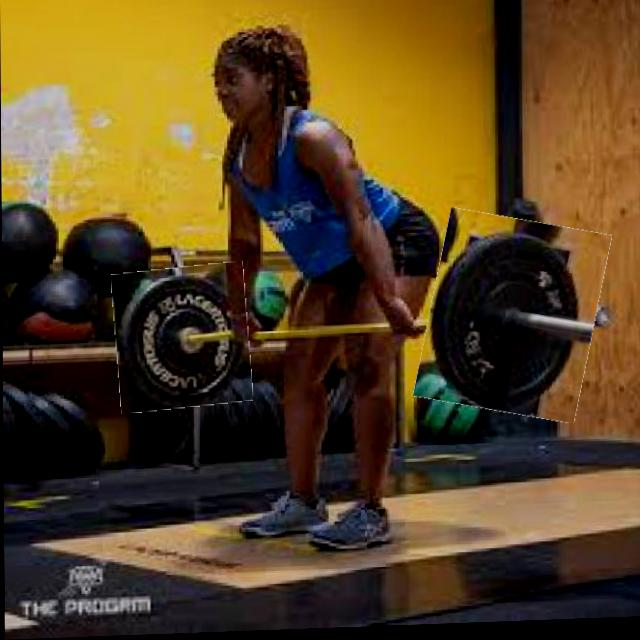barbell: (422, 215, 604, 426), (114, 266, 252, 414)
